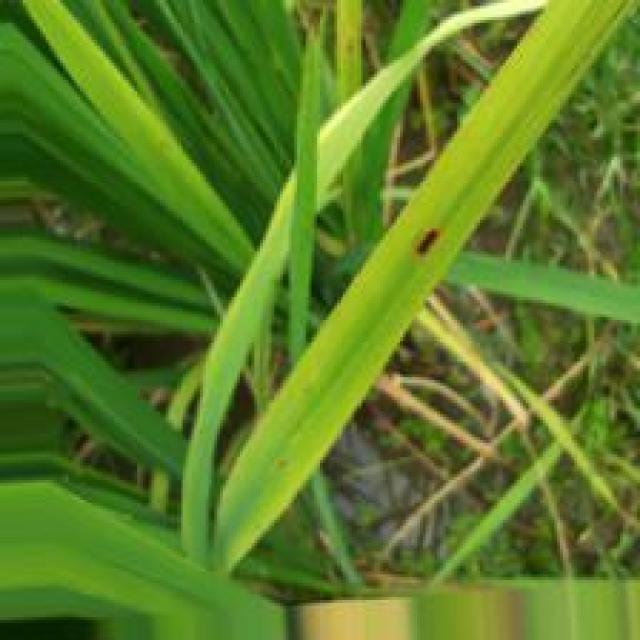Brown_Spot: (410, 226, 447, 256)
